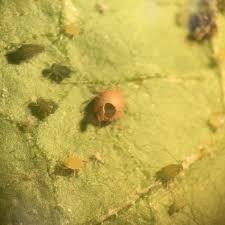insect: (55, 150, 89, 187), (4, 39, 47, 68), (39, 55, 80, 85), (25, 92, 62, 122), (152, 159, 190, 188)
